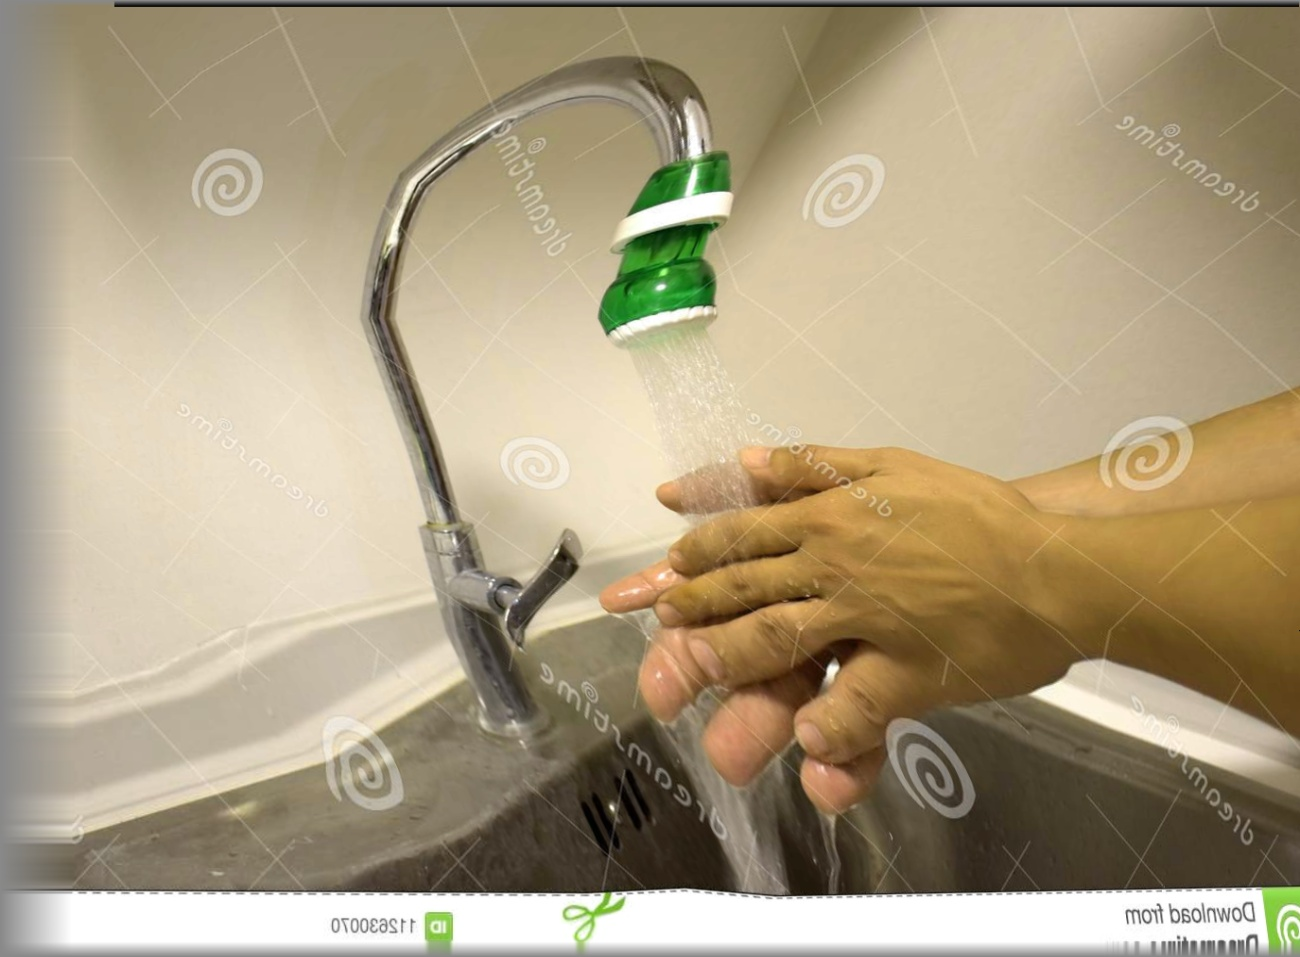washing hand: (414, 57, 1081, 845)
